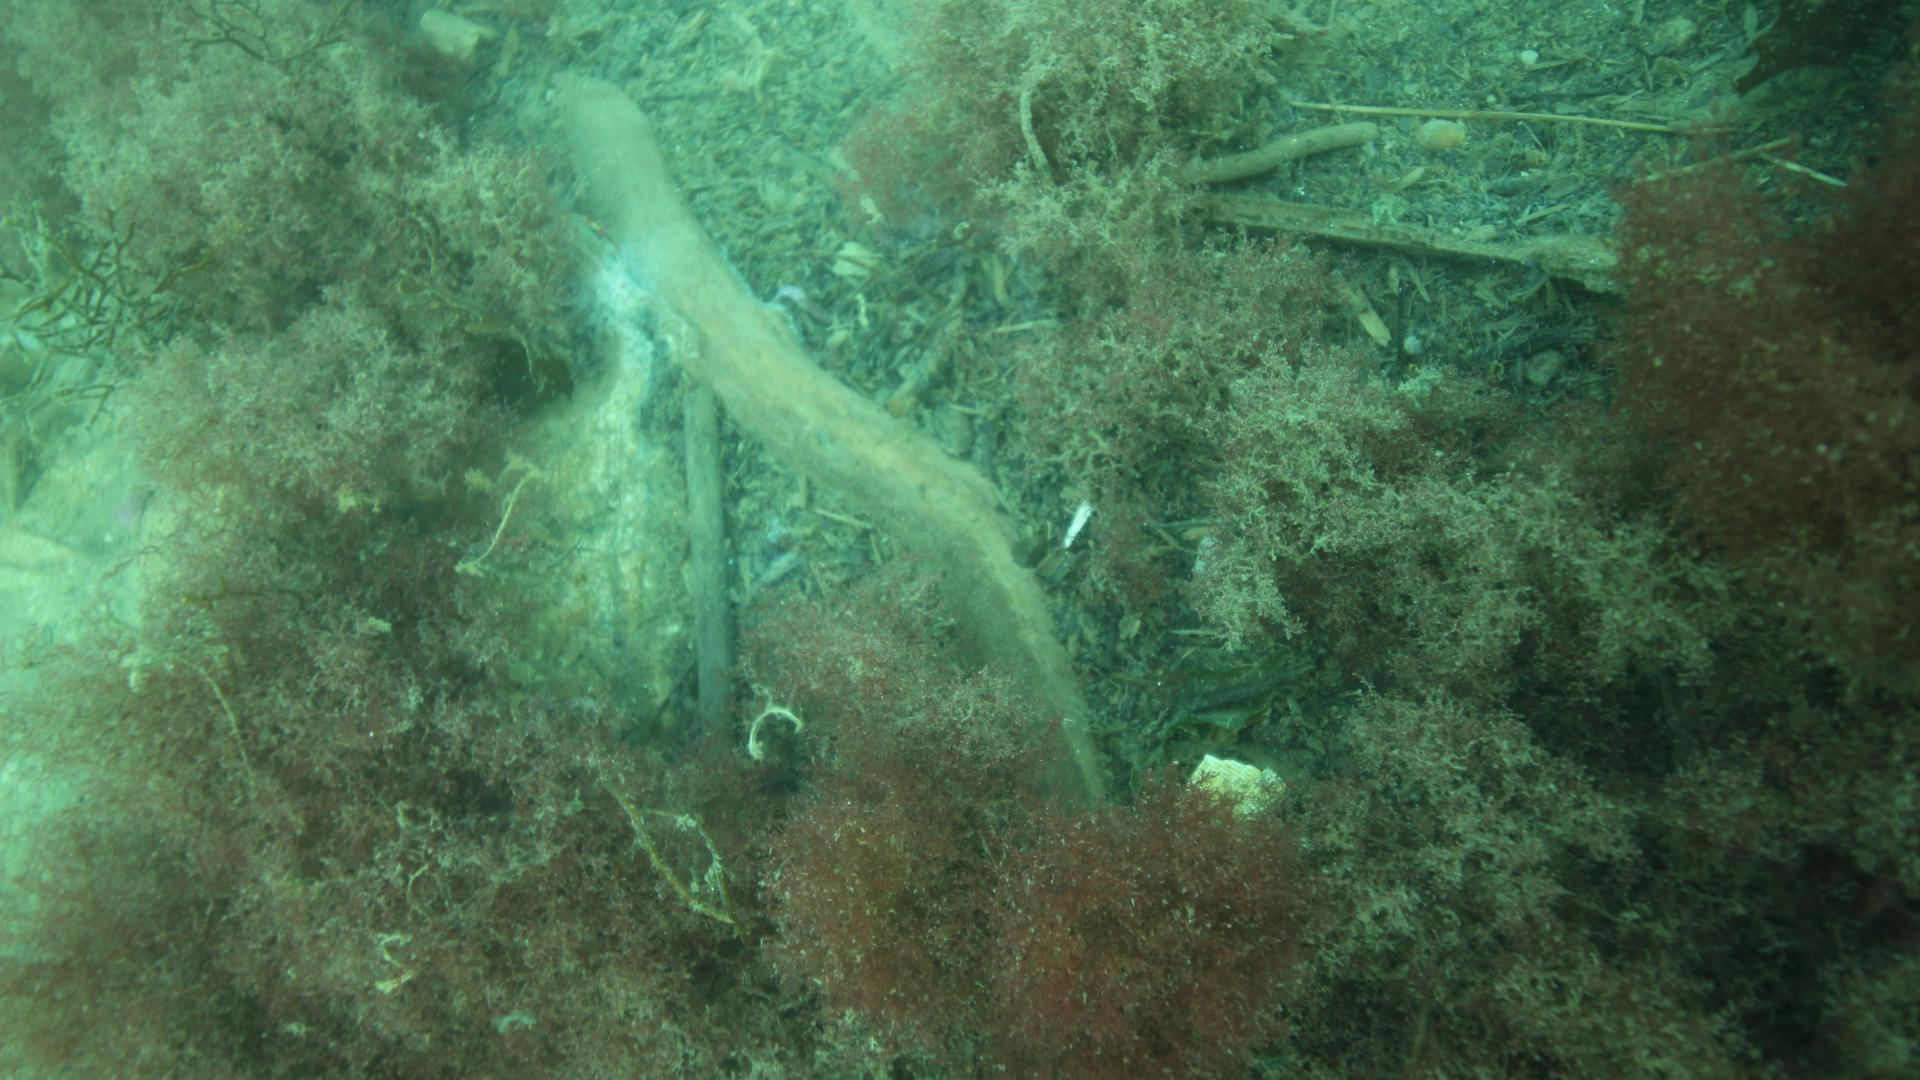wood: (558, 80, 1108, 800), (1207, 193, 1613, 273), (684, 382, 731, 735)
